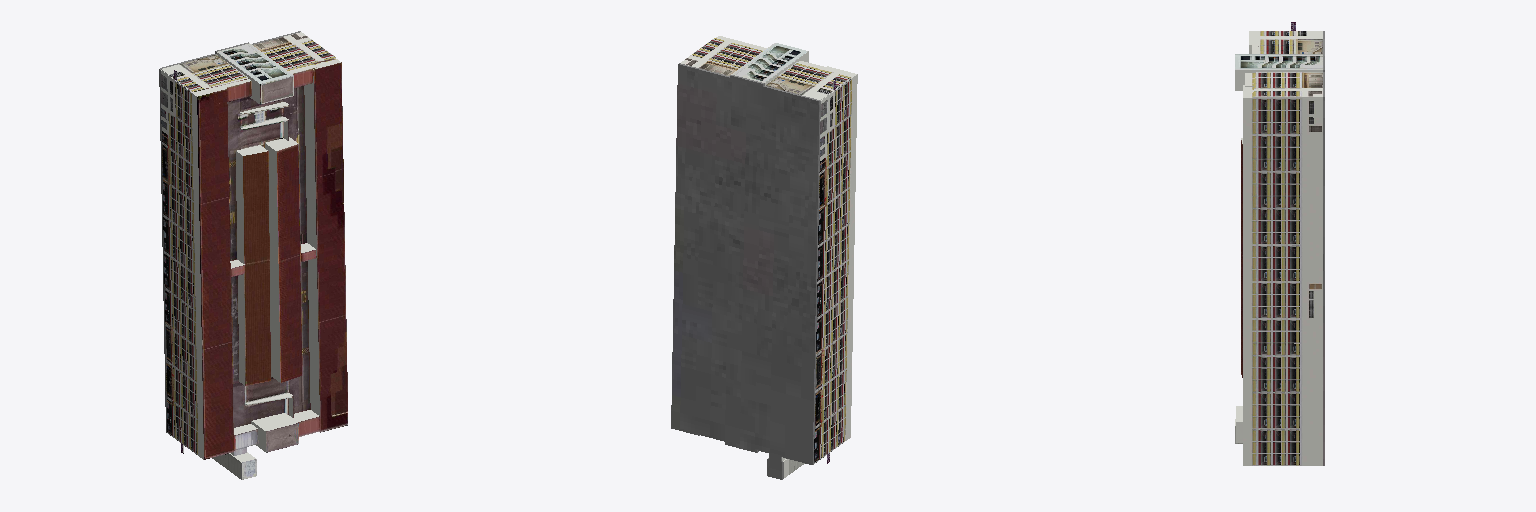
3 views of the same model, side by side, from view 1: azimuth 30°, elevation 25°; view 2: azimuth 150°, elevation 25°; view 3: azimuth 270°, elevation 25° (orthographic).
Visible parts, largest first — view 1: polygon.818; view 2: polygon.818; view 3: polygon.818.
Boxes of the visible parts, x1,y1,x2,y2 form: polygon.818: [159, 31, 347, 479]; polygon.818: [671, 36, 857, 479]; polygon.818: [1235, 22, 1324, 465].
Size of the model in its own units: 32.16 by 82.12 by 17.
1 materials, 1 textured.